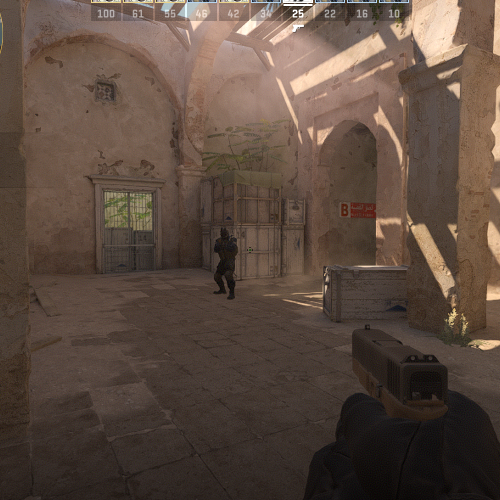ct_body: (212, 226, 238, 300)
ct_head: (219, 227, 228, 240)
